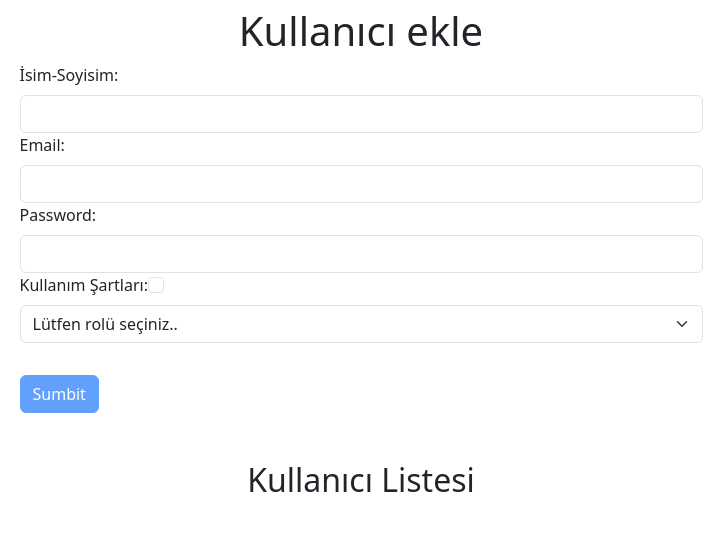
Scenario: form denemtimi › isim input 3 karakterden az girilen hata mesaj  kontrolü
Type "12" into the field with test id "test_name". click: (362, 114)
box: [20,95,703,133]
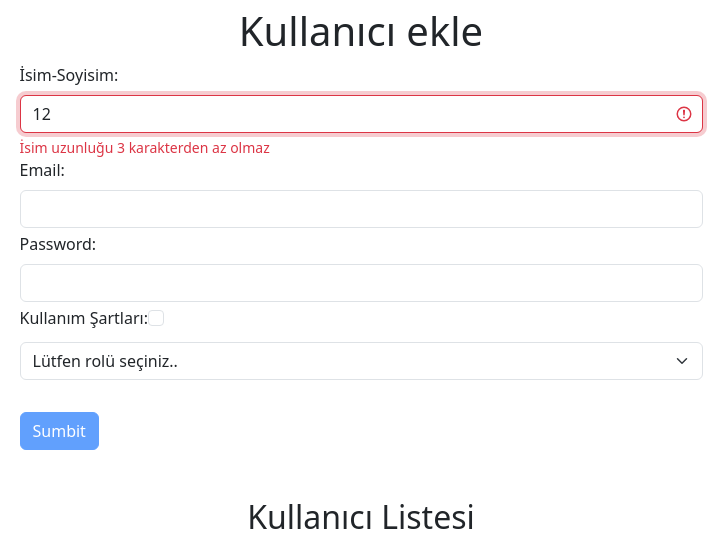
Expected: the text "İsim uzunluğu 3 karakterden az olmaz" is shown, [20,138,270,157]
Clear the field with test id "test_name". click: (362, 114)
box: [20,95,703,133]
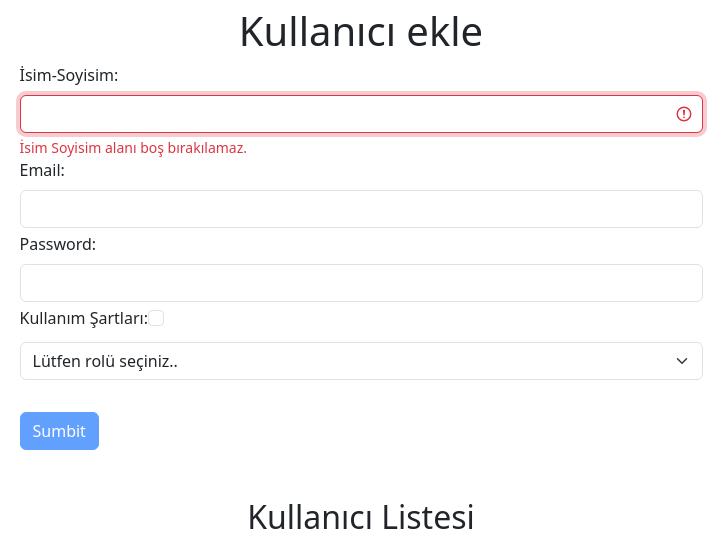
Expected: the button "Sumbit" is disabled, [20,412,99,450]
Expected: the text "İsim Soyisim alanı boş bırakılamaz." is shown, [20,138,247,157]
